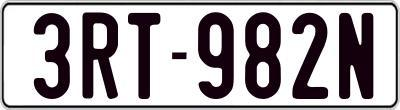2: (291, 12, 332, 101)
3: (33, 11, 74, 97)
8: (243, 10, 284, 98)
9: (195, 10, 235, 98)
N: (338, 12, 373, 101)
R: (81, 10, 117, 97)
T: (127, 12, 163, 101)
